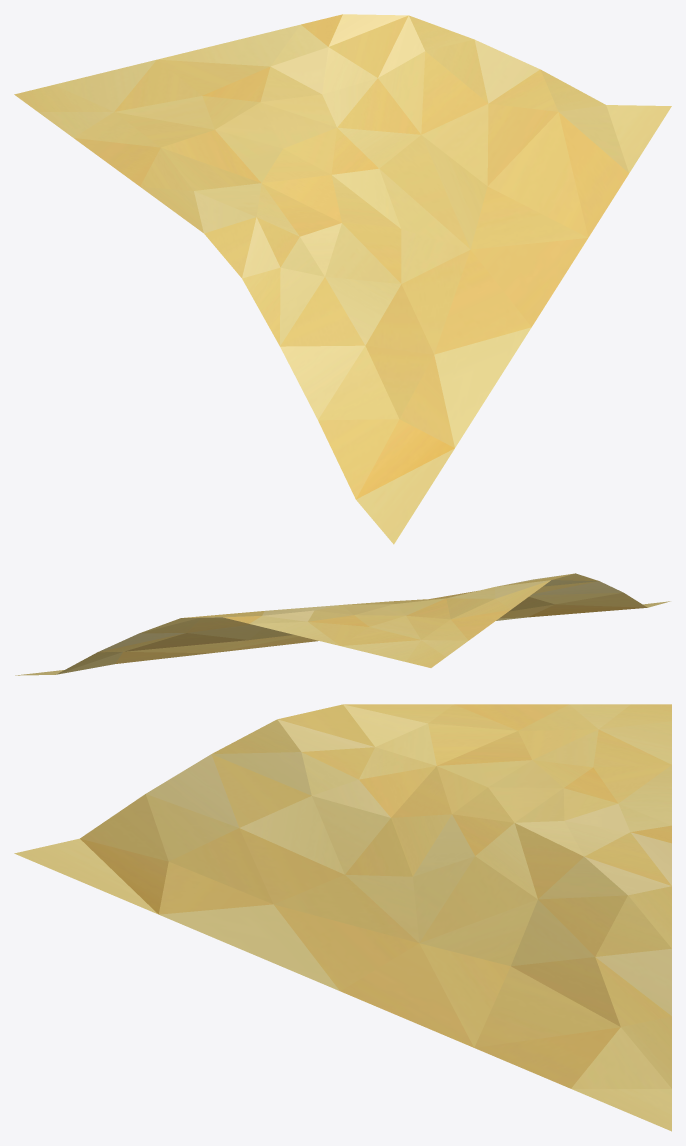
File: GL-Terrain-part-11-LOD2.fbx
The picture shows the model from 3 angles, top to bottom: view 1: azimuth 30°, elevation 25°; view 2: azimuth 150°, elevation 25°; view 3: azimuth 270°, elevation 25°; orthographic projection. The views are drawn at different scales.
Parts seen in each view (by area): view 1: GL_Terrain_part_11; view 2: GL_Terrain_part_11; view 3: GL_Terrain_part_11.
Boxes of the visible parts, box(x1,y1,x2,y2) form: GL_Terrain_part_11: box(14, 14, 671, 544); GL_Terrain_part_11: box(15, 573, 670, 675); GL_Terrain_part_11: box(14, 704, 671, 1131).
Bounding box in the file's own units: 12 × 3 × 12.
